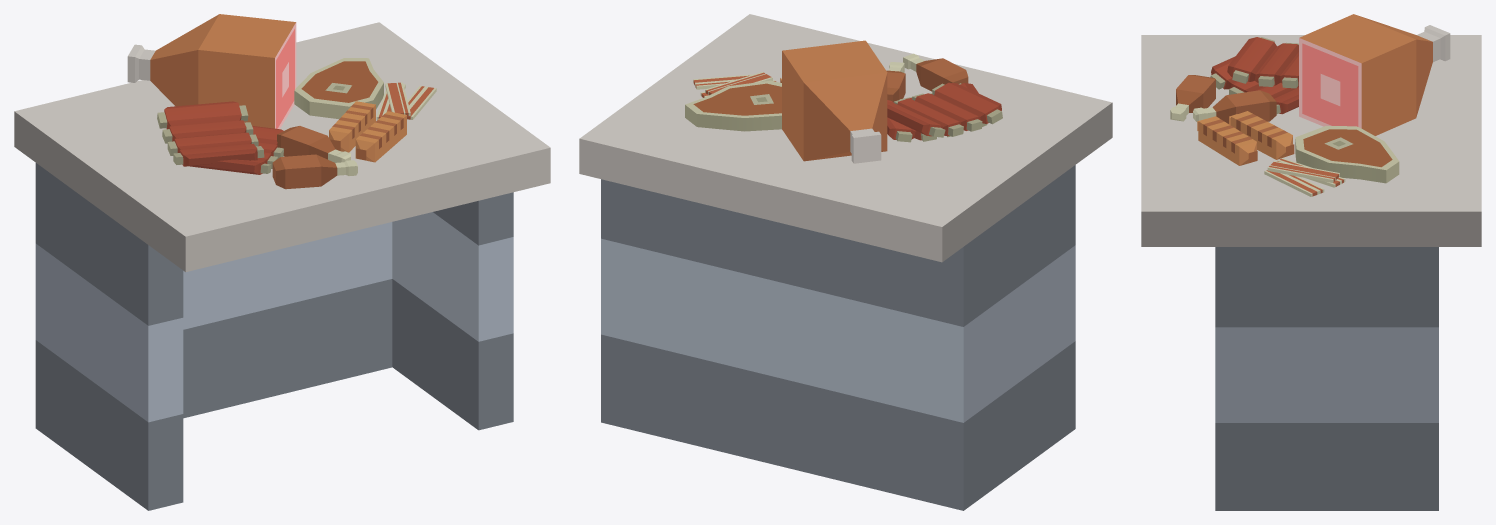
File: ButcherCounter4.glb
The picture shows the model from 3 angles, left to right: view 1: azimuth 30°, elevation 25°; view 2: azimuth 150°, elevation 25°; view 3: azimuth 270°, elevation 25°; orthographic projection.
Visible parts, largest first — view 1: SI_Prop_ButcherCounter_04; view 2: SI_Prop_ButcherCounter_04; view 3: SI_Prop_ButcherCounter_04.
Part boxes in pixels (x1,y1,x2,y2): SI_Prop_ButcherCounter_04: [14, 14, 550, 510]; SI_Prop_ButcherCounter_04: [579, 14, 1112, 510]; SI_Prop_ButcherCounter_04: [1141, 14, 1481, 510].
Bounding box in the file's own units: 0.0187 × 0.0186 × 0.0152.
Materials: 1 (1 with a texture image).
